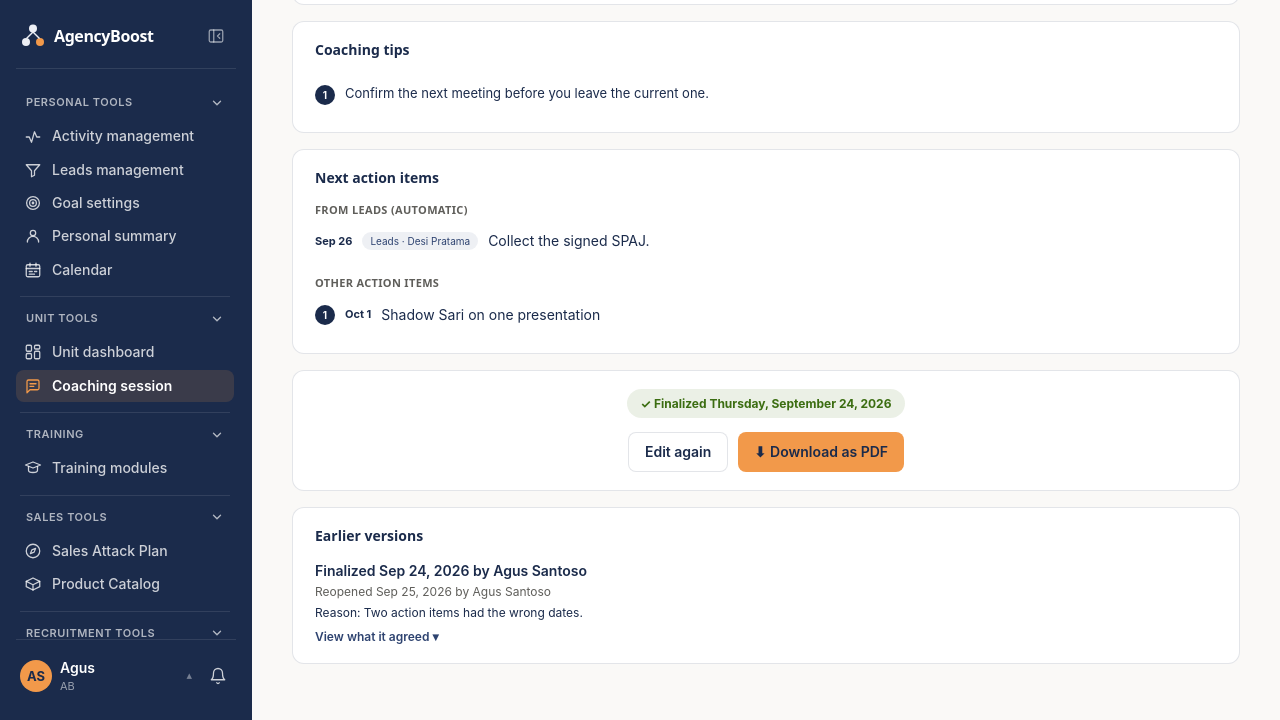
Test: a past session’s archive (P11-T10) › ⬇ Download as PDF › P11-T10 AC-3 shows a refused print beside the button, and prints nothing
(page scrolled)
Click the button "⬇ Download as PDF". click: (821, 452)
box: [738, 432, 904, 472]
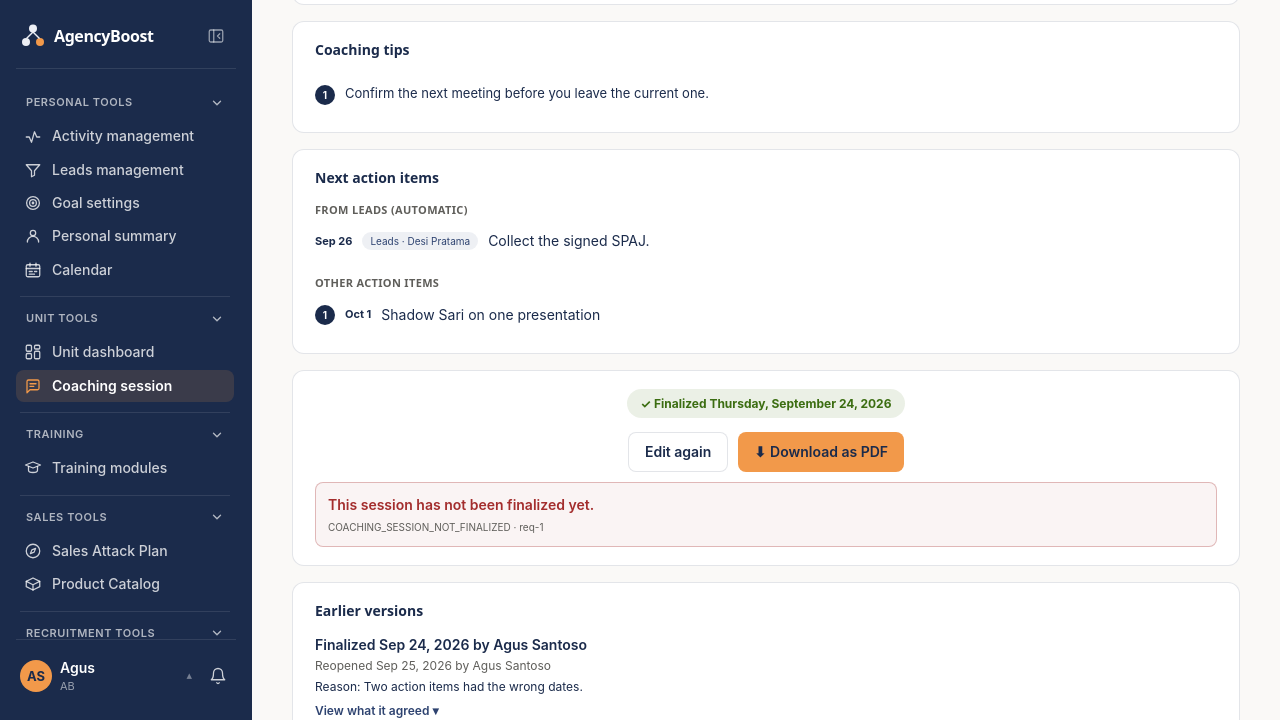
Result: the message shows "This session has not been finalized yet." at [328, 496, 594, 513]
